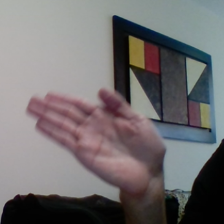left: (18, 76, 177, 199)
